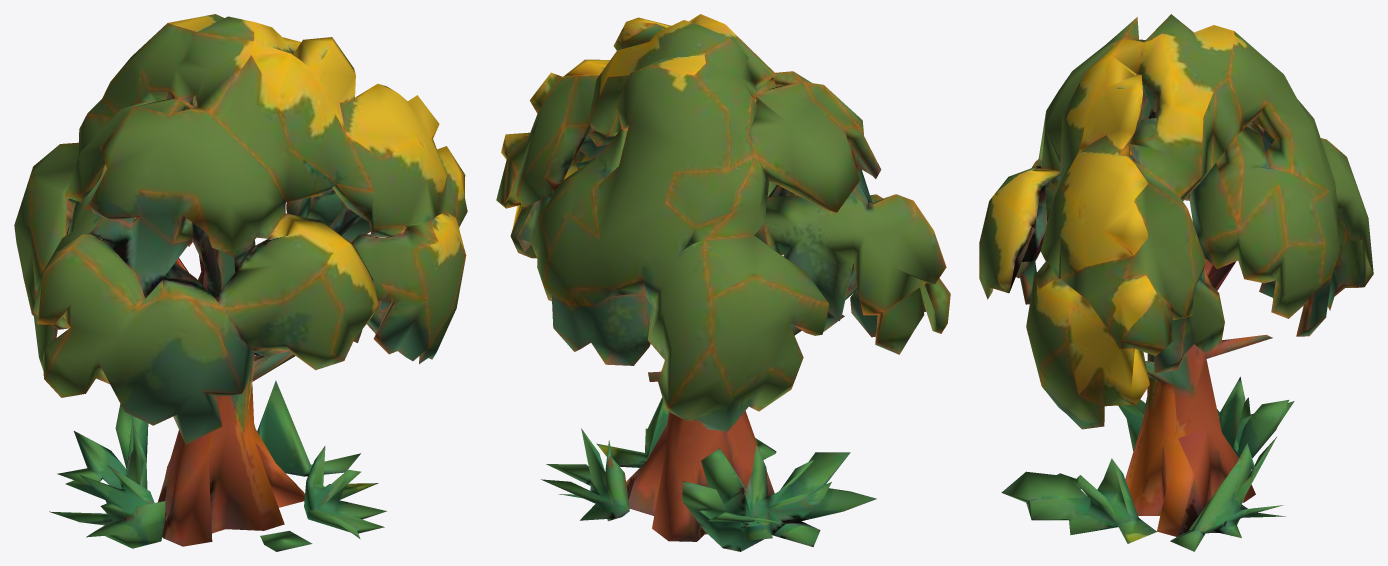
Rendered from albero.glb.
3 renders of one model, left to right at view 1: azimuth 30°, elevation 25°; view 2: azimuth 150°, elevation 25°; view 3: azimuth 270°, elevation 25°, orthographic. The views are drawn at different scales.
Parts seen in each view (by area): view 1: geometry_0; view 2: geometry_0; view 3: geometry_0.
Boxes of the visible parts, left/top/right/bottom form: geometry_0: left=14, top=14, right=467, bottom=551; geometry_0: left=496, top=14, right=950, bottom=551; geometry_0: left=979, top=14, right=1373, bottom=551.
Size of the model in its own units: 6.49 by 7 by 5.22.
1 material, 1 textured.
